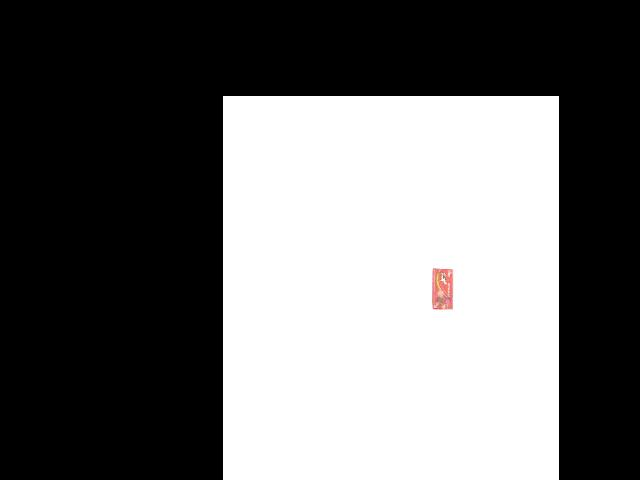chocolate: (430, 266, 452, 309)
